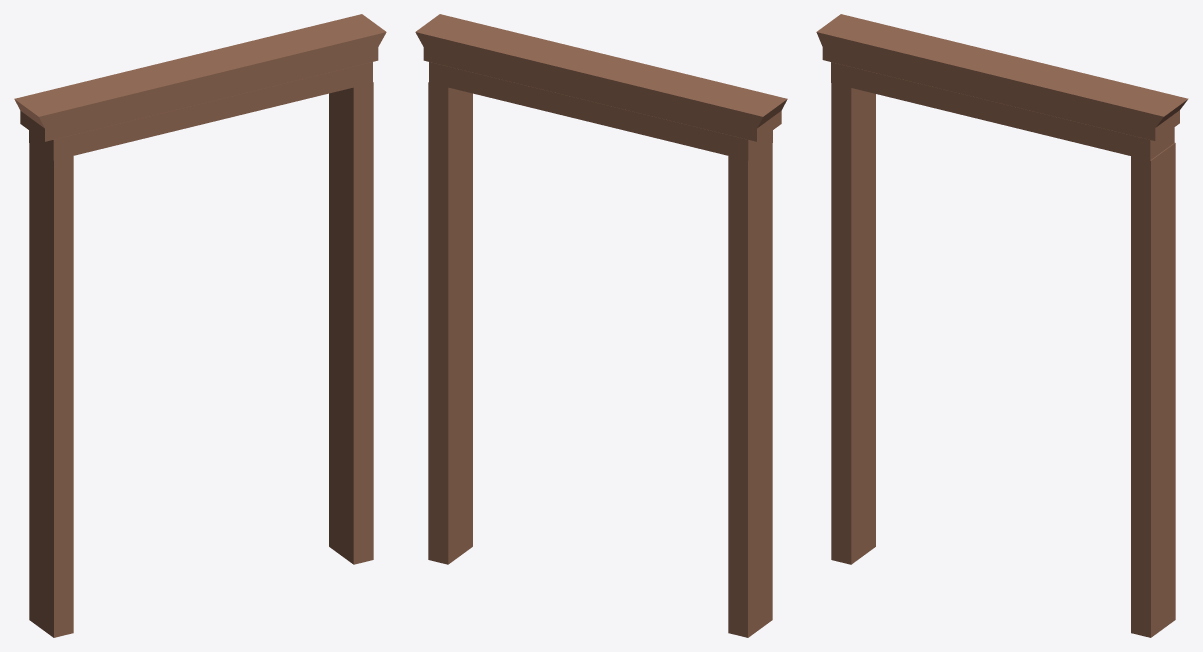
The model's file is frame.fbx.
3 renders of one model, left to right at view 1: azimuth 30°, elevation 25°; view 2: azimuth 150°, elevation 25°; view 3: azimuth 330°, elevation 25°, orthographic.
Visible parts, largest first — view 1: frame; view 2: frame; view 3: frame.
Boxes of the visible parts, x1,y1,x2,y2 form: frame: [14, 14, 386, 637]; frame: [415, 14, 787, 637]; frame: [816, 14, 1188, 637].
Size of the model in its own units: 2.35 by 3.39 by 0.2887.
